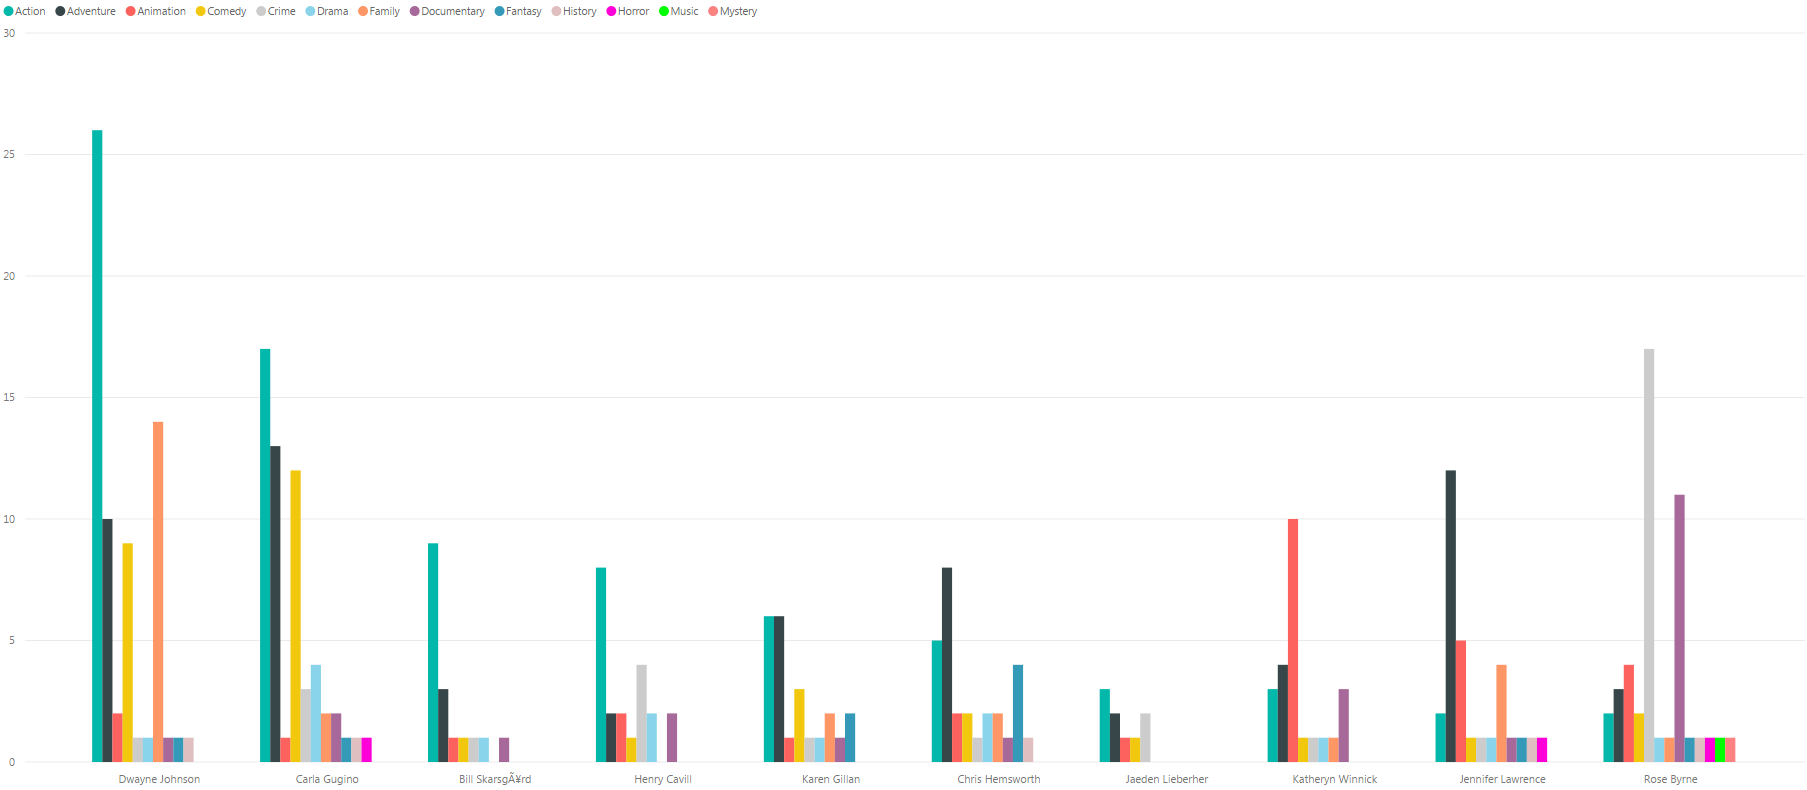

What the dashboard file says about the page in this screenshot:
{"tool":"powerbi","page":{"name":"Page 1","canvas":[1280,720],"ordinal":0},"visuals":[{"type":"clusteredColumnChart","fields":{"Y":["genres.Action","genres.Adventure","genres.Animation","genres.Comedy","genres.Crime","genres.Documentary","genres.Drama","genres.Family","genres.Fantasy","genres.History","genres.Horror","genres.Music"],"Category":["genres.Actor"]},"box":[10.3,19.7,1192,293.5],"z":1},{"type":"columnChart","fields":{"Category":["popular.Actor"],"Series":["popular.Most popular movie genre"],"Y":["popular.Total for genre"]},"box":[33.5,368.2,789.5,311.5],"z":2},{"type":"hundredPercentStackedBarChart","fields":{"Category":["popular.Actor"],"Y":["totals.movie Total","popular.Total for the most popular genre"]},"box":[841.9,354.4,410.2,363],"z":3}]}

Visuals, with their boxes on the page's 1280x720 design canvas (x1, y1, x2, y2). These are canvas units, not pixel positions in the 1807x790 screenshot, which may show the page scaled, cropped or inside an application window:
clusteredColumnChart - genres.Action x genres.Adventure: locate(10, 20, 1202, 313)
columnChart - popular.Actor x popular.Most popular movie genre: locate(34, 368, 823, 680)
hundredPercentStackedBarChart - popular.Actor x totals.movie Total: locate(842, 354, 1252, 717)
